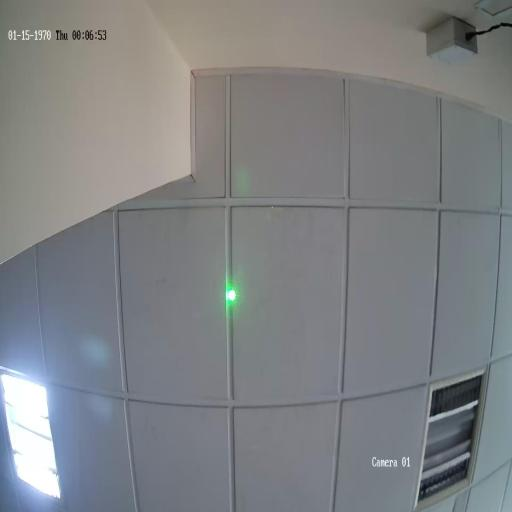laser: (226, 283, 237, 307)
